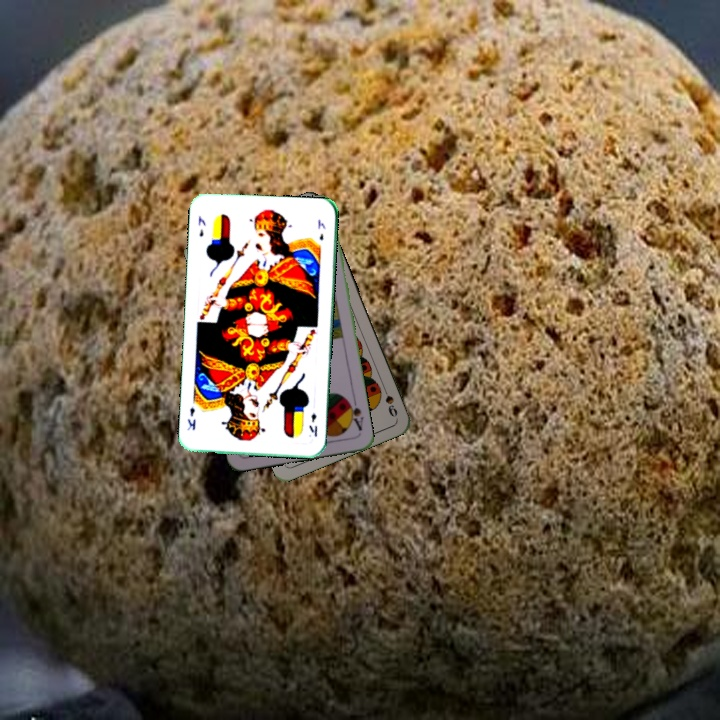EK: (305, 408, 320, 439), (194, 212, 208, 239)
S9: (378, 381, 400, 420)
SA: (343, 395, 366, 433)
